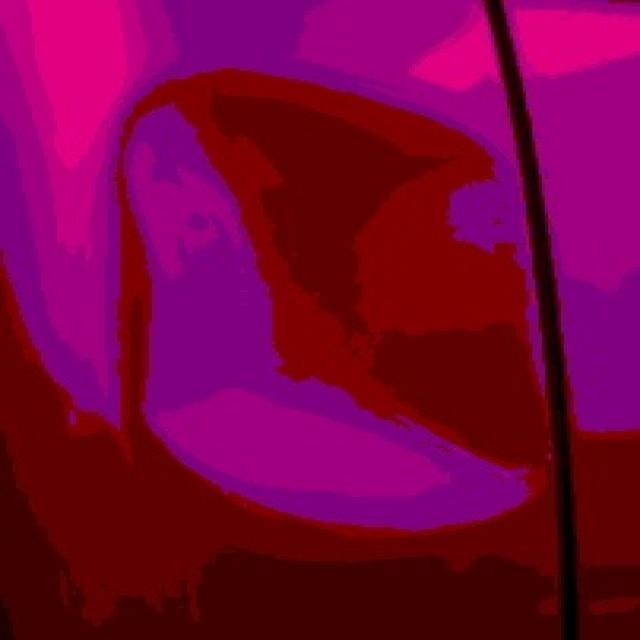dent: (119, 70, 556, 535)
